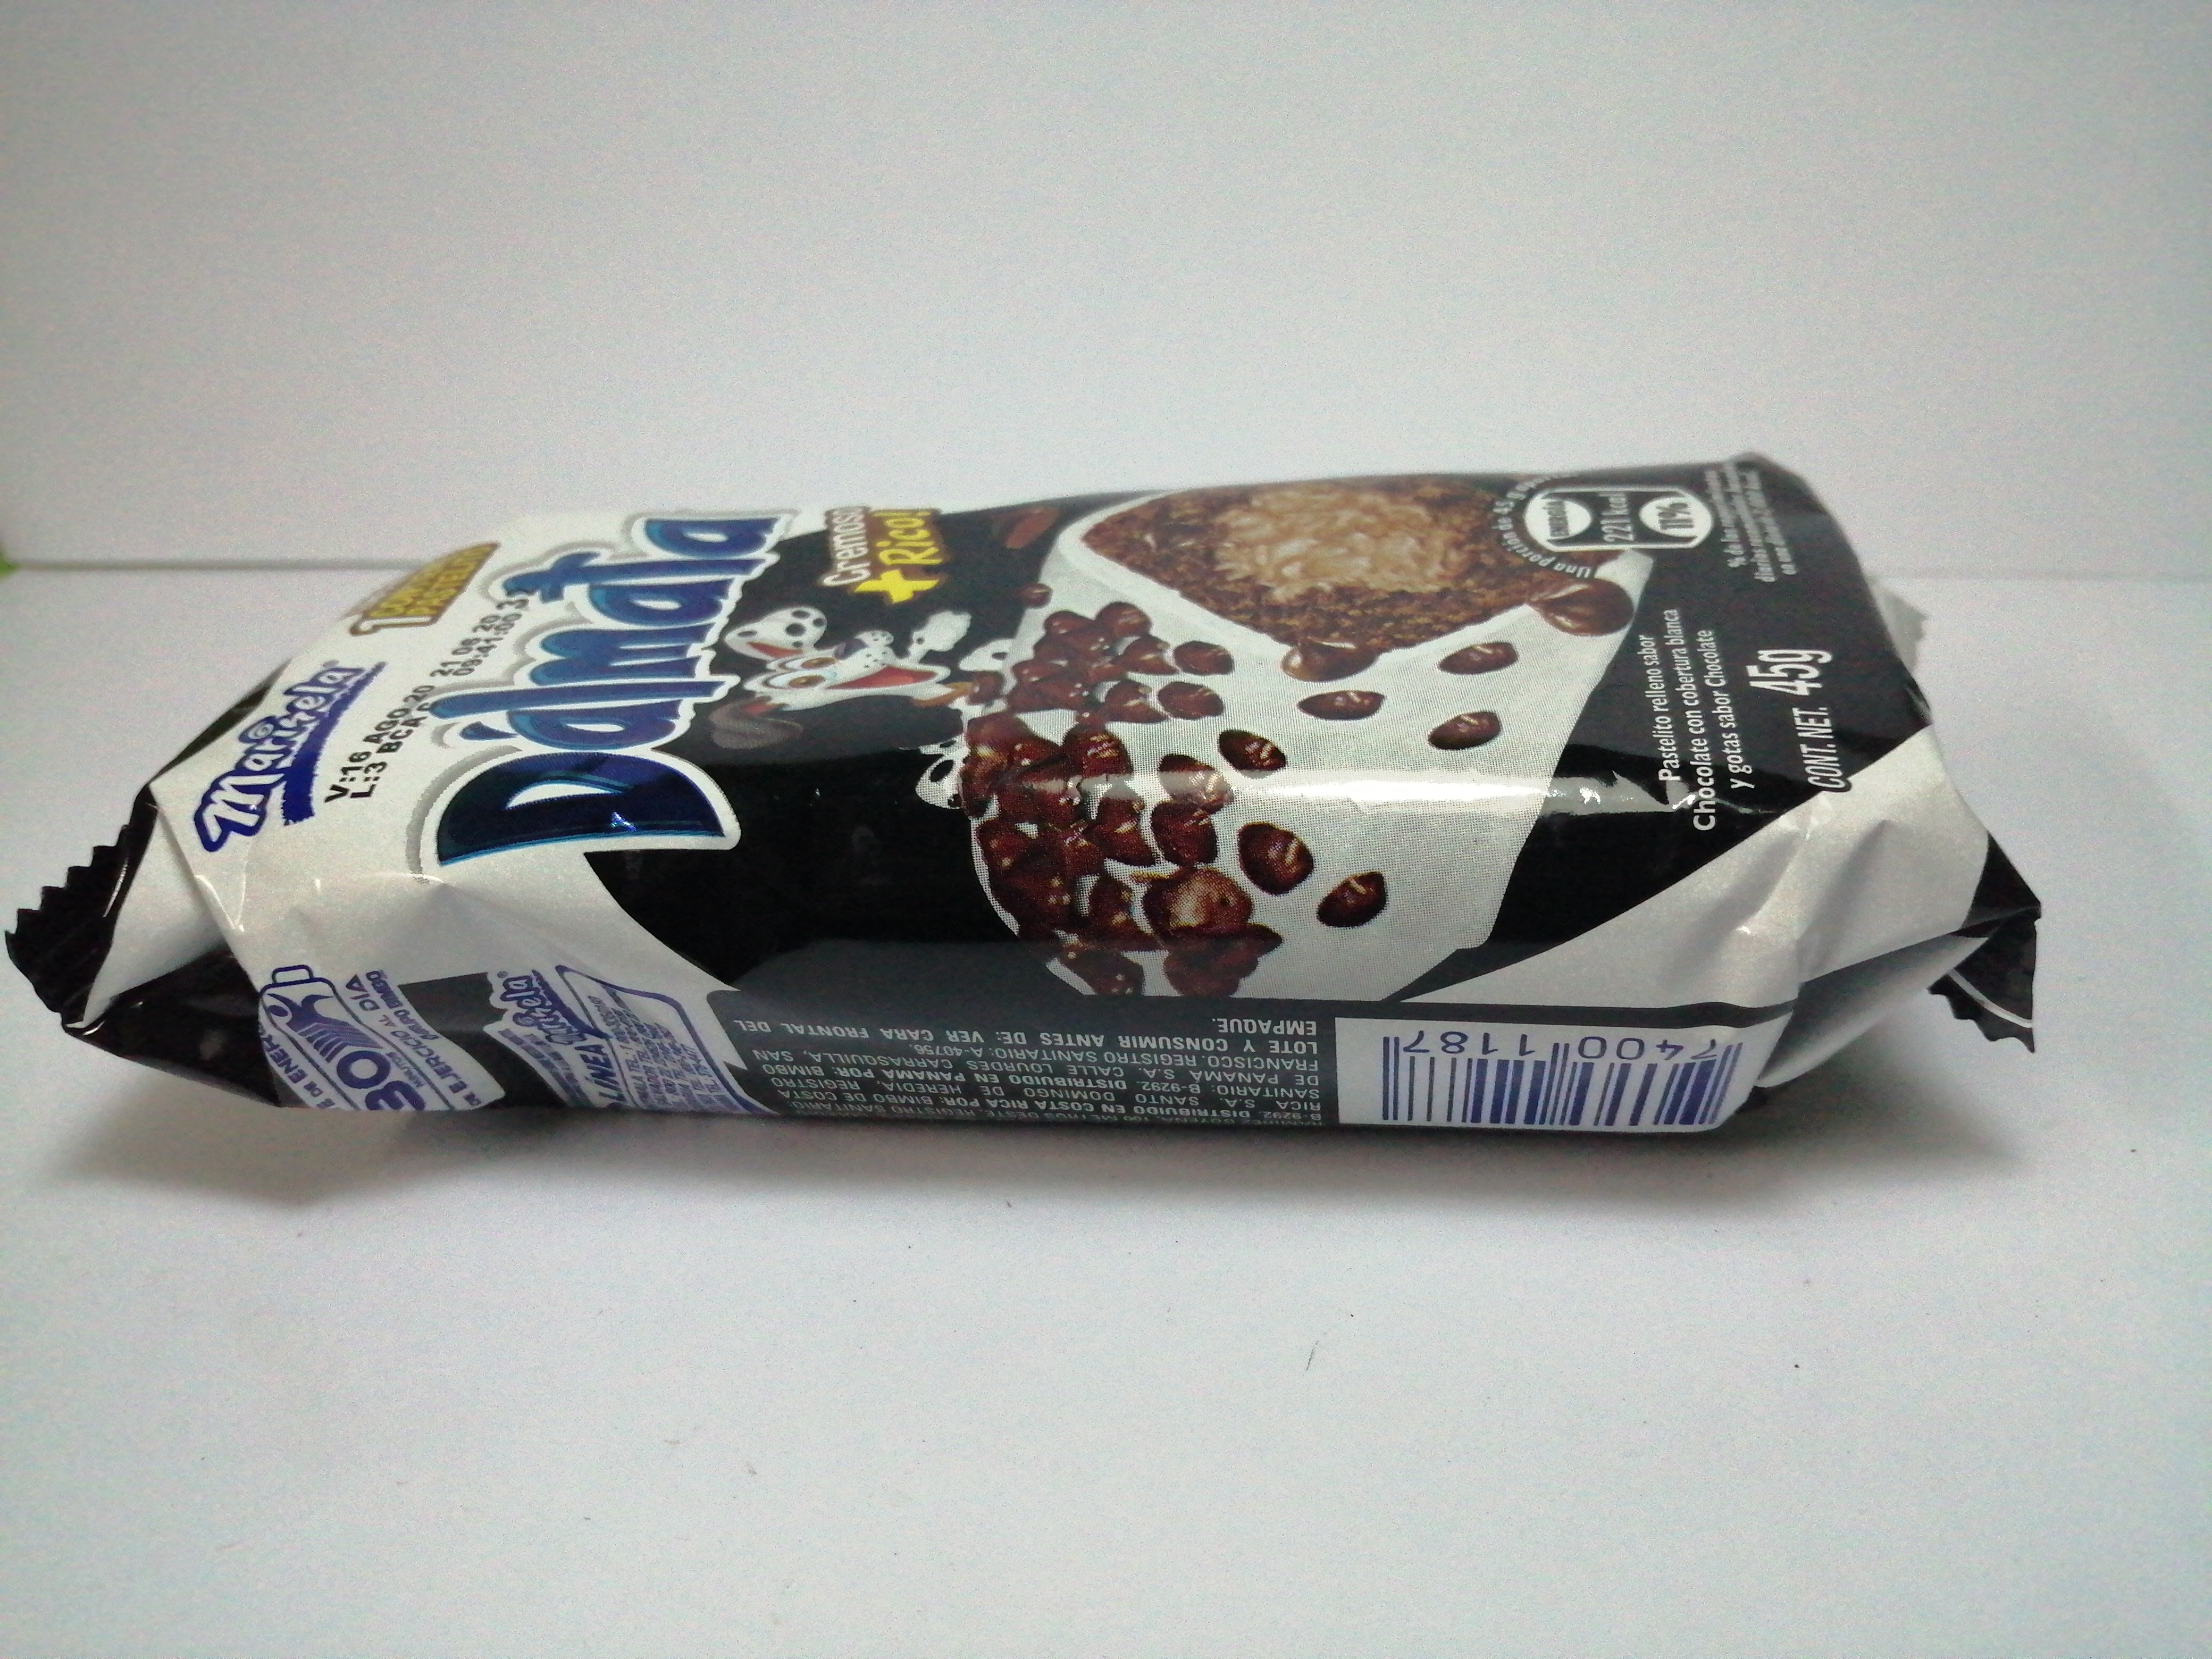dalmata: (12, 458, 2047, 1155)
